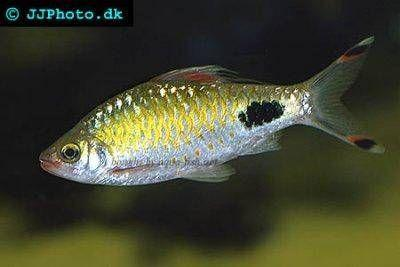Black Spotted Barb: (19, 44, 365, 198)
